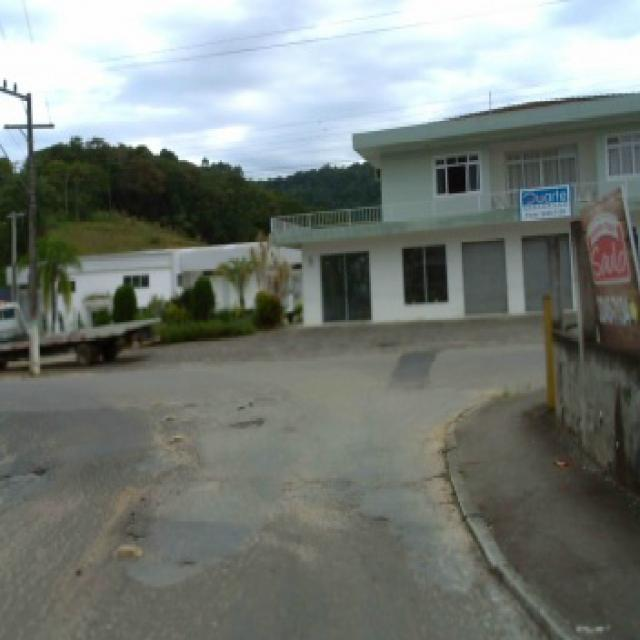Poth-hole: (347, 500, 493, 604), (0, 462, 49, 487), (226, 413, 264, 429), (111, 540, 142, 558), (121, 524, 148, 540), (173, 555, 198, 569), (167, 432, 184, 444), (235, 398, 252, 409), (73, 564, 82, 576), (162, 411, 174, 420), (128, 506, 136, 516), (180, 400, 197, 404)
